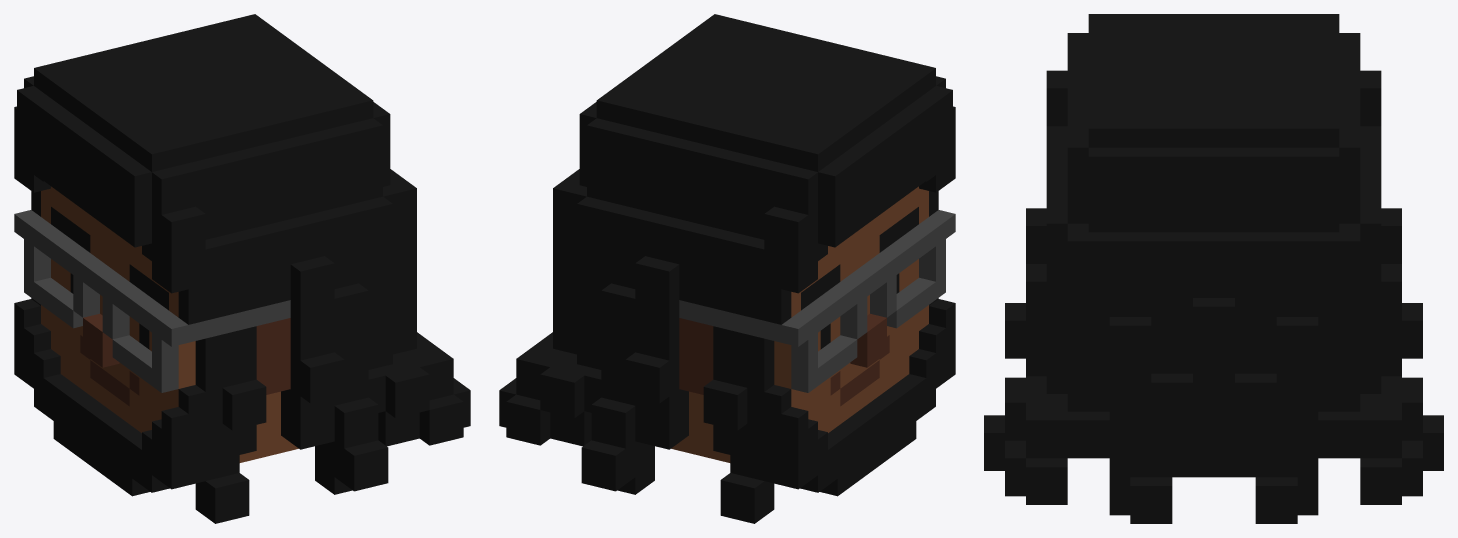
Rendered from Voxel Universe-22-Face.obj.
3 renders of one model, left to right at view 1: azimuth 30°, elevation 25°; view 2: azimuth 150°, elevation 25°; view 3: azimuth 270°, elevation 25°, orthographic. The views are drawn at different scales.
Visible parts, largest first — view 1: Face; view 2: Face; view 3: Face.
Part boxes in pixels (x1,y1,x2,y2): Face: [14, 14, 470, 523]; Face: [499, 14, 955, 523]; Face: [984, 14, 1443, 523].
Size of the model in its own units: 1.8 by 2 by 2.2.
Materials: 1 (1 with a texture image).
